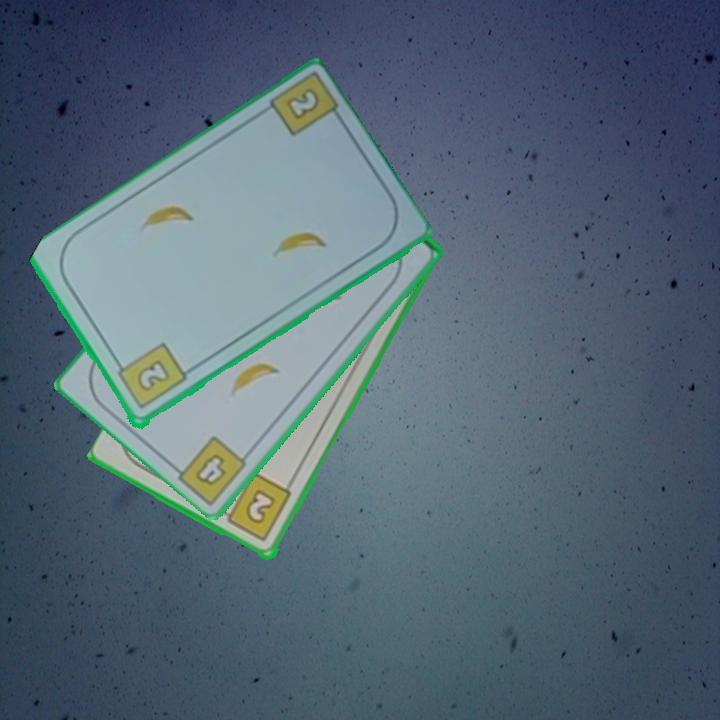2b: (216, 470, 295, 545), (111, 340, 190, 413), (282, 84, 323, 123)
4b: (191, 450, 229, 490)
